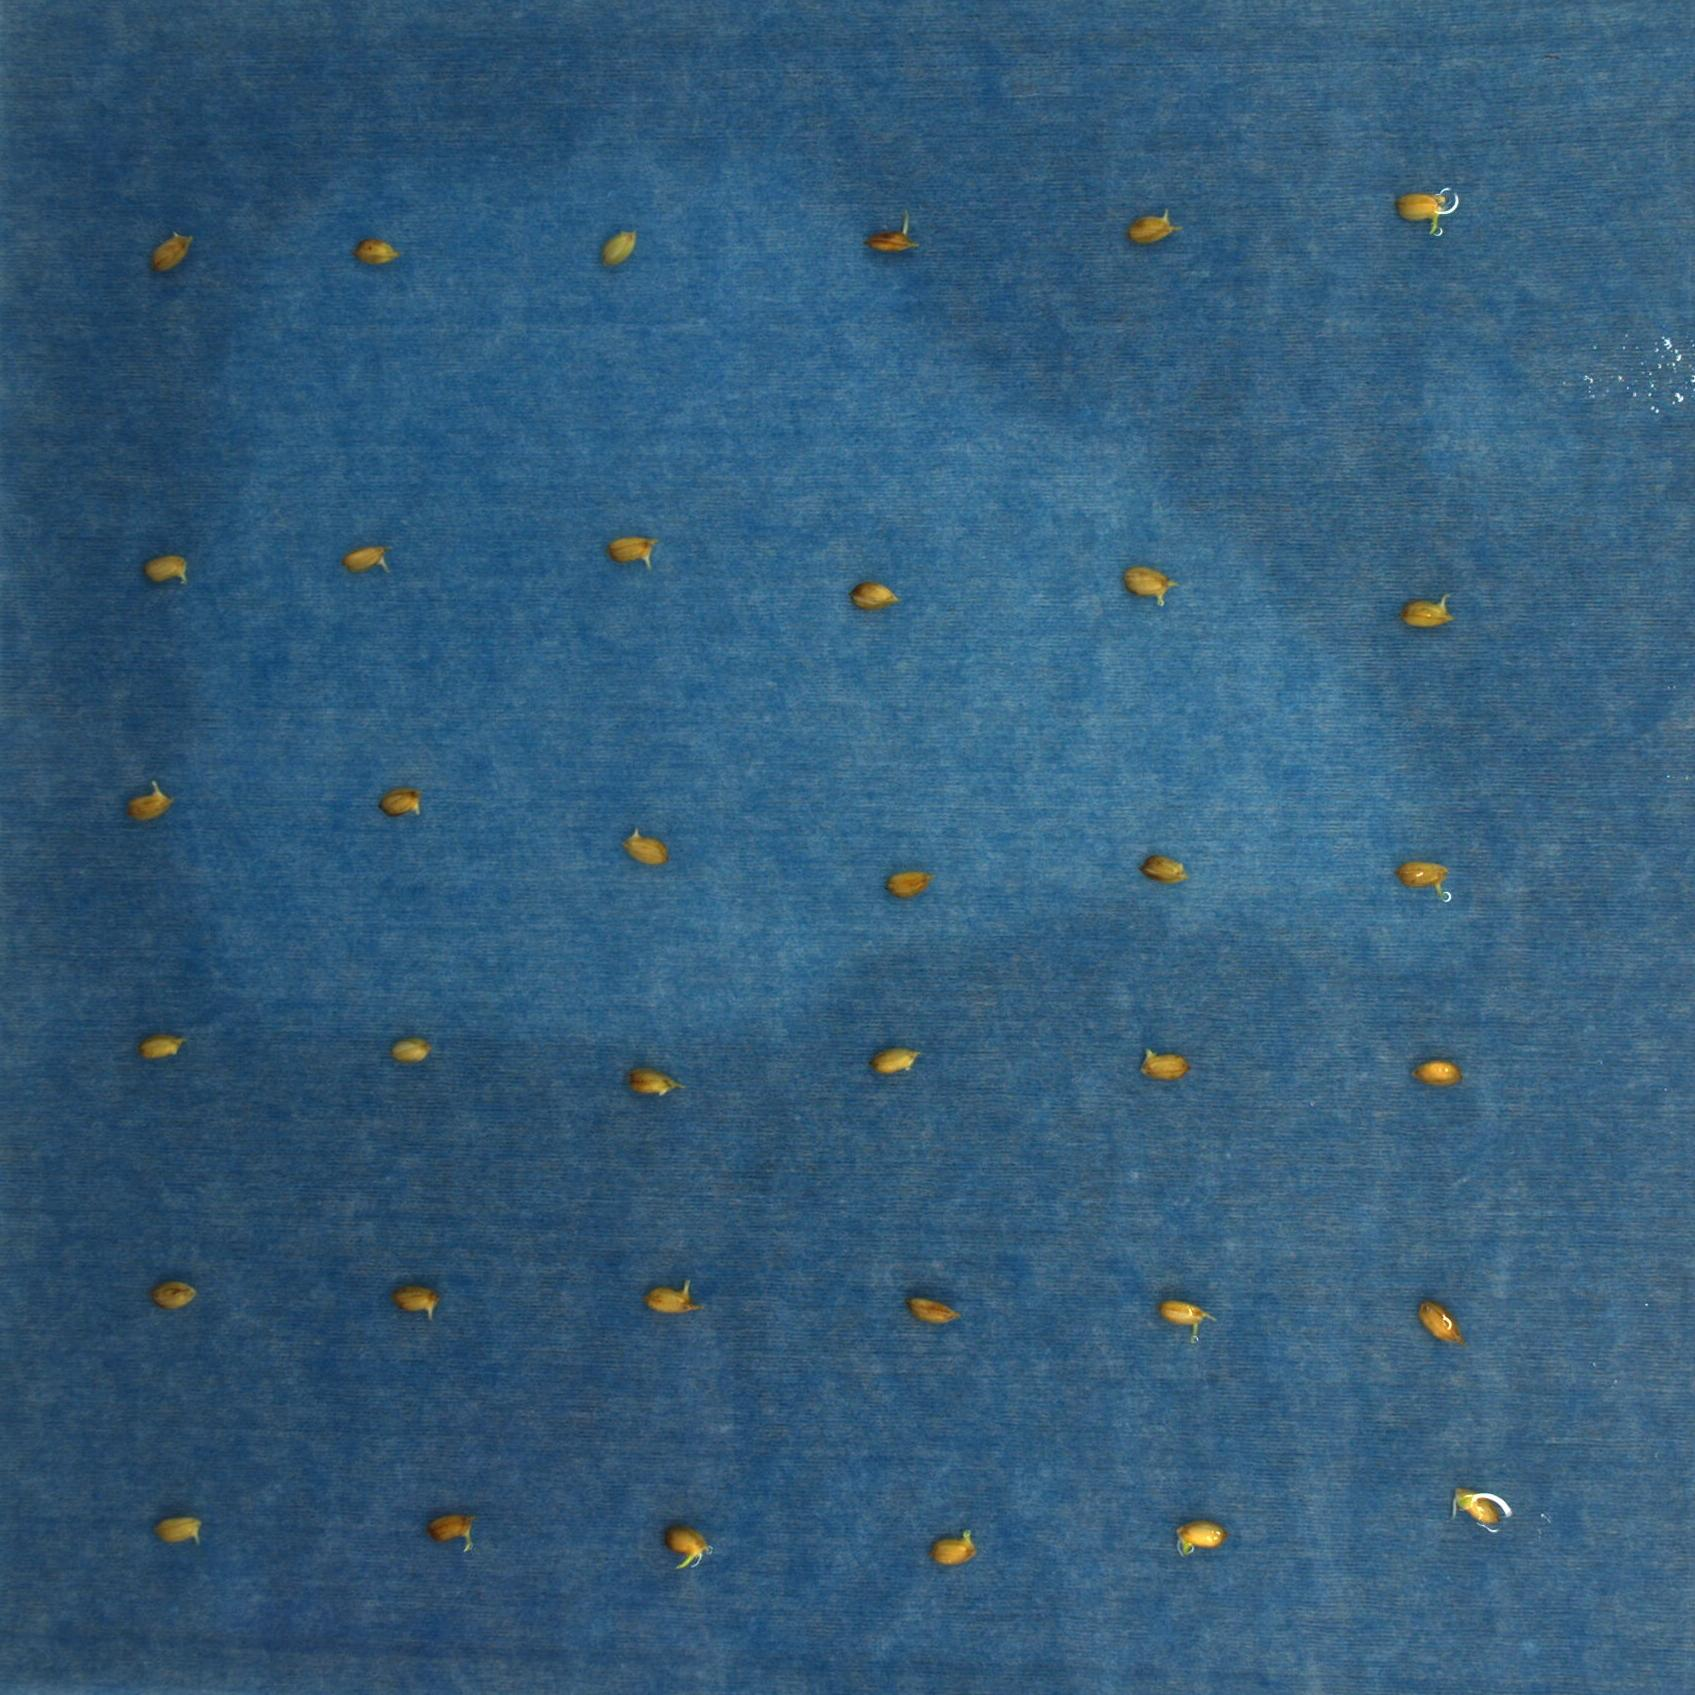not sprout: (653, 1523, 731, 1572), (1132, 1038, 1206, 1090), (1121, 200, 1189, 255), (1394, 180, 1465, 231), (1406, 1288, 1465, 1349), (1108, 557, 1180, 607), (598, 525, 666, 576), (1450, 1485, 1509, 1544), (877, 852, 934, 910), (1169, 1509, 1232, 1560), (1400, 852, 1461, 905), (640, 1271, 705, 1319), (865, 1031, 927, 1080), (118, 778, 186, 821), (619, 812, 671, 869), (1395, 588, 1464, 630), (601, 222, 650, 279), (140, 542, 199, 588), (1159, 1290, 1222, 1333), (927, 1520, 983, 1568), (383, 1276, 439, 1322), (851, 570, 906, 616), (626, 1059, 685, 1101), (340, 534, 397, 576), (432, 1499, 478, 1551), (147, 1270, 200, 1315), (1409, 1052, 1462, 1096), (1132, 843, 1186, 885), (149, 237, 199, 281), (906, 1288, 958, 1330), (869, 220, 917, 264), (154, 1516, 210, 1554), (129, 1029, 192, 1062), (371, 781, 422, 820), (348, 234, 400, 272), (393, 1031, 427, 1073)
